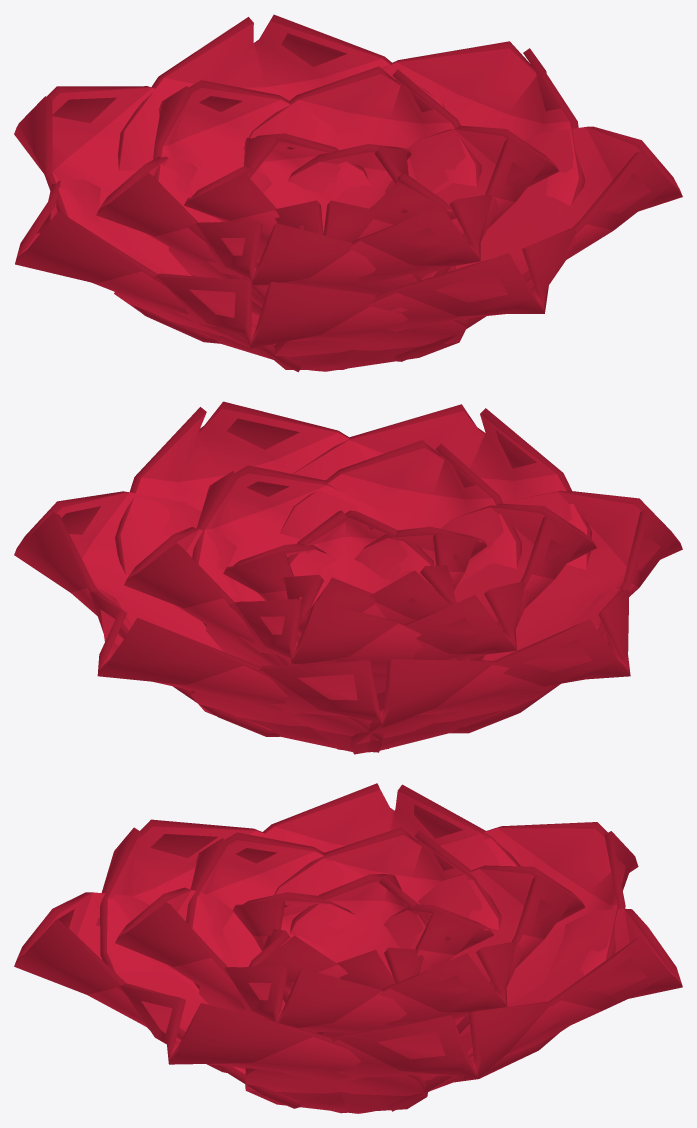
The model's file is garden-rose-bloom-head-1-c41e39.glb.
3 views of the same model, one above another, from view 1: azimuth 30°, elevation 25°; view 2: azimuth 150°, elevation 25°; view 3: azimuth 270°, elevation 25° (orthographic). The views are drawn at different scales.
Visible parts, largest first — view 1: rose-bloom-head-1-c41e39; view 2: rose-bloom-head-1-c41e39; view 3: rose-bloom-head-1-c41e39.
Boxes of the visible parts, x1,y1,x2,y2 form: rose-bloom-head-1-c41e39: [14, 14, 682, 372]; rose-bloom-head-1-c41e39: [14, 401, 682, 754]; rose-bloom-head-1-c41e39: [14, 783, 682, 1113].
Size of the model in its own units: 0.1104 by 0.0397 by 0.1138.
